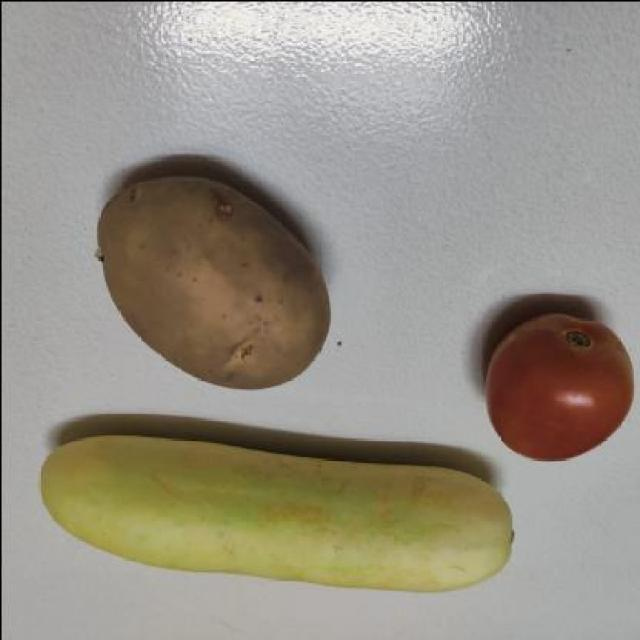Potato: (83, 160, 339, 394)
Tomato: (480, 298, 640, 464)
